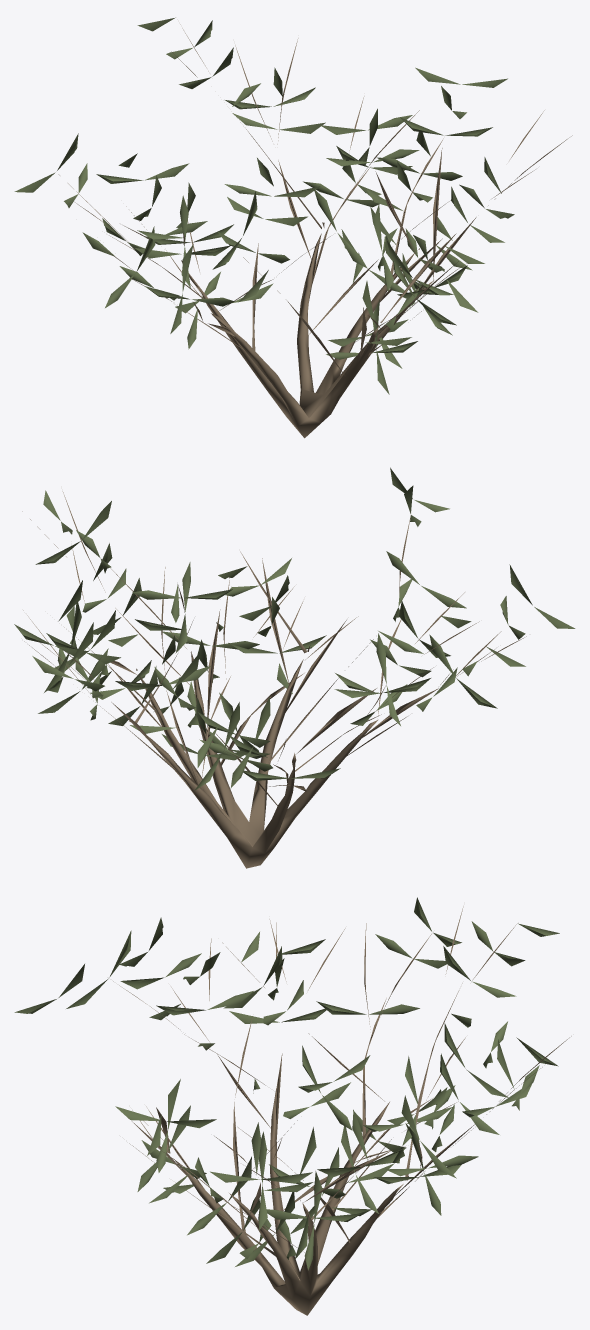
File: Ciste_2_Niveau2.fbx
3 renders of one model, top to bottom at view 1: azimuth 30°, elevation 25°; view 2: azimuth 150°, elevation 25°; view 3: azimuth 270°, elevation 25°, orthographic. The views are drawn at different scales.
Parts seen in each view (by area): view 1: Ciste_2_Niveau2; view 2: Ciste_2_Niveau2; view 3: Ciste_2_Niveau2.
Boxes of the visible parts, x1=… form: Ciste_2_Niveau2: x1=14, y1=17, x2=572, y2=438; Ciste_2_Niveau2: x1=14, y1=467, x2=575, y2=868; Ciste_2_Niveau2: x1=14, y1=897, x2=571, y2=1315.
Bounding box in the file's own units: 90.82 × 67.28 × 90.71.
